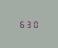six: (18, 20, 24, 28)
three: (26, 20, 32, 28)
zero: (33, 20, 39, 28)
